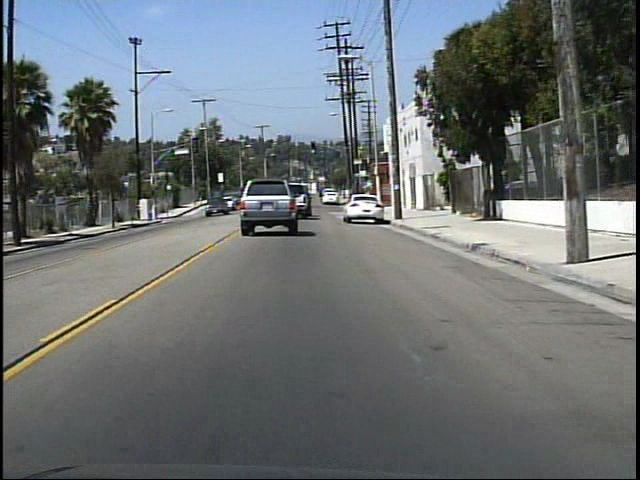car: (240, 179, 301, 234), (343, 191, 385, 224), (202, 196, 229, 218)
strada: (7, 236, 573, 470)
